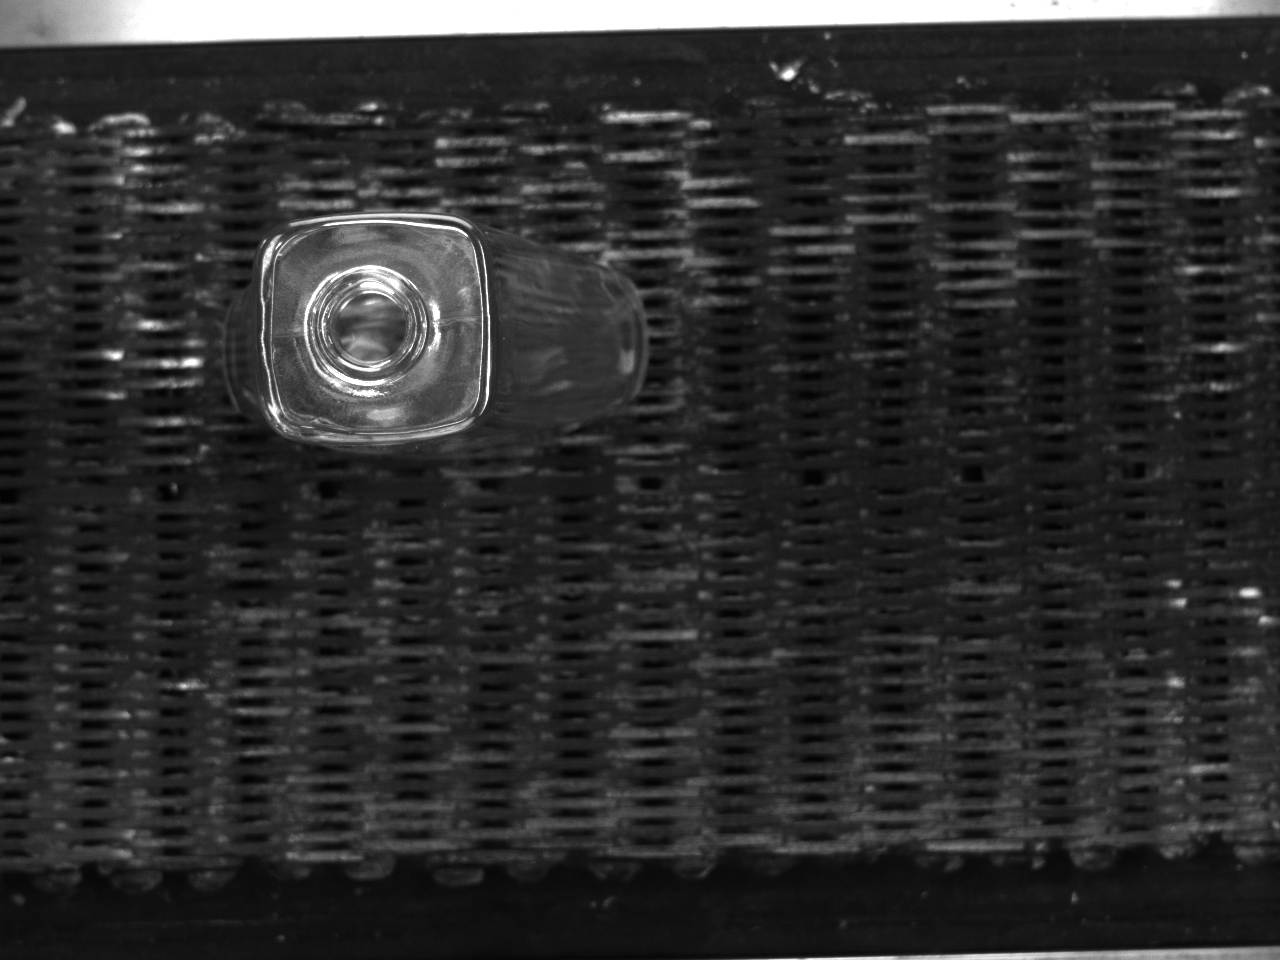bottleneck: (307, 265, 429, 384)
